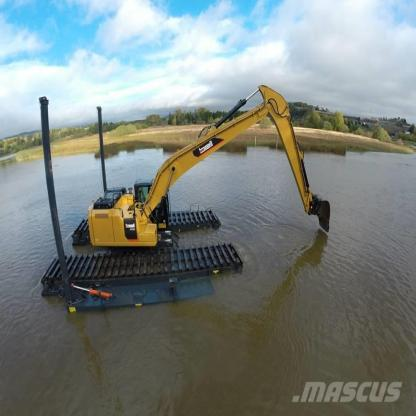excavator: (28, 60, 353, 310)
